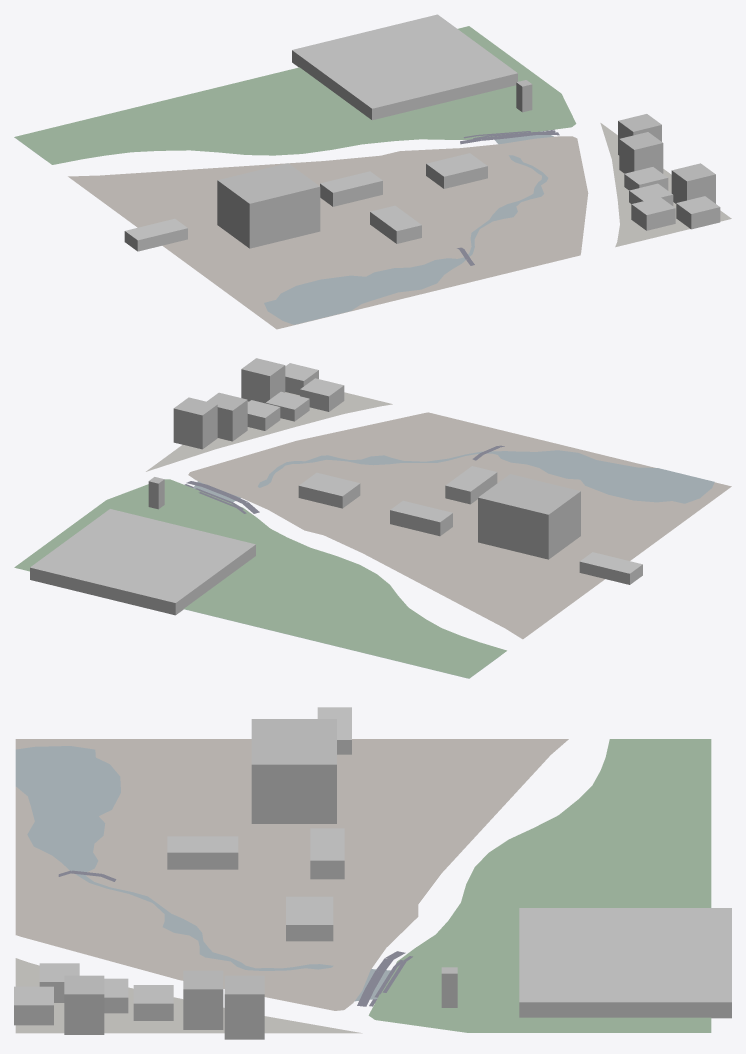
Rendered from 111_113_mid.glb.
The picture shows the model from 3 angles, top to bottom: view 1: azimuth 30°, elevation 25°; view 2: azimuth 150°, elevation 25°; view 3: azimuth 270°, elevation 25°; orthographic projection. The views are drawn at different scales.
Bounding box in the file's own units: 537 × 48.33 × 516.
